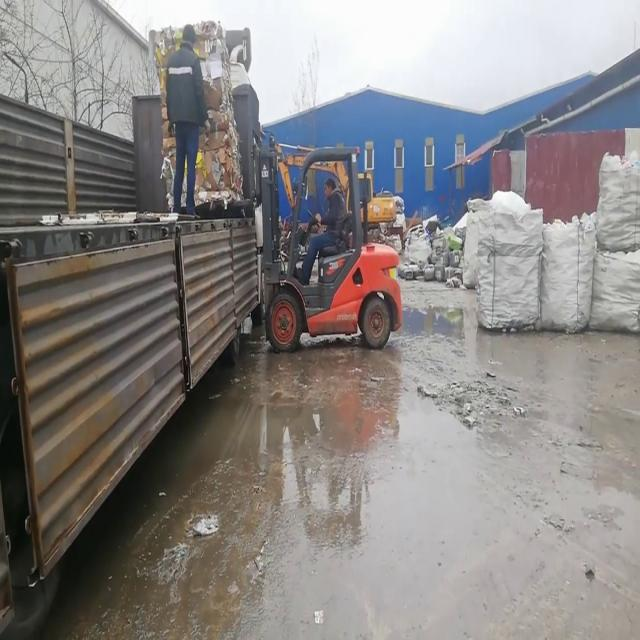Chariot elevateur: (256, 134, 406, 369)
